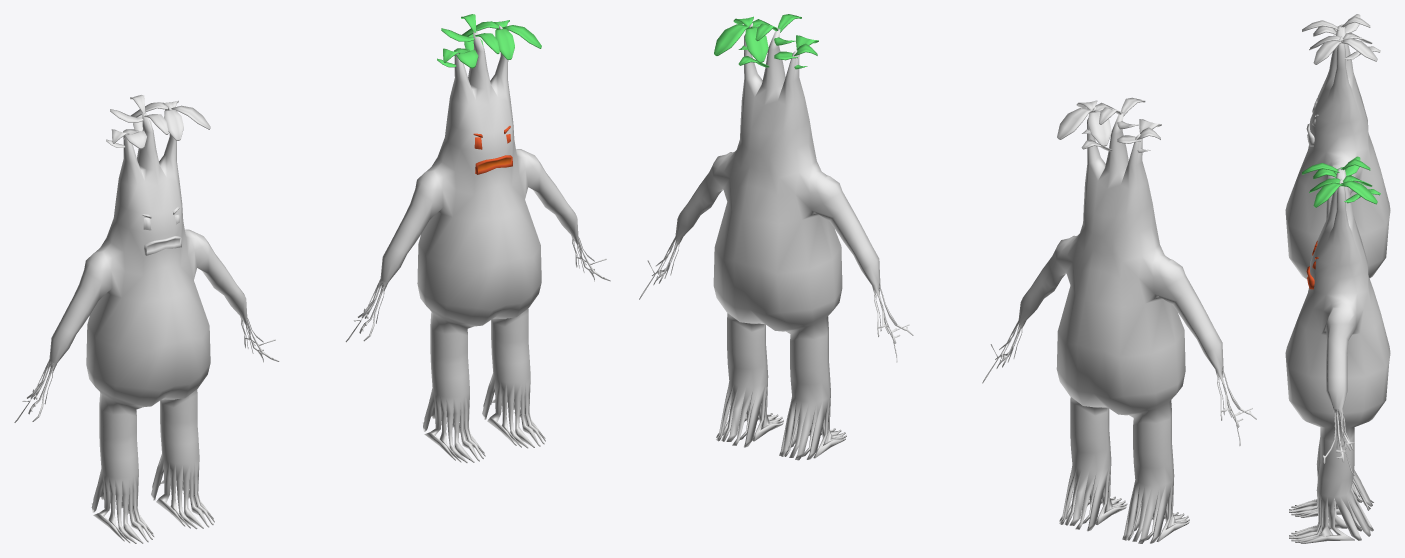
The model's file is Mandrágora.fbx.
3 renders of one model, left to right at view 1: azimuth 30°, elevation 25°; view 2: azimuth 150°, elevation 25°; view 3: azimuth 270°, elevation 25°, orthographic. The views are drawn at different scales.
Parts seen in each view (by area): view 1: Mandrágora.001, Mandrágora; view 2: Mandrágora, Mandrágora.001; view 3: Mandrágora.001, Mandrágora.
Part boxes in pixels (box(x1,y1,x2,y2)): Mandrágora.001: box(345, 14, 610, 462); Mandrágora: box(14, 95, 279, 543); Mandrágora: box(982, 97, 1256, 543); Mandrágora.001: box(639, 14, 913, 460); Mandrágora.001: box(1285, 156, 1390, 543); Mandrágora: box(1285, 14, 1390, 279).
Bounding box in the file's own units: 163 × 110 × 28.82.
